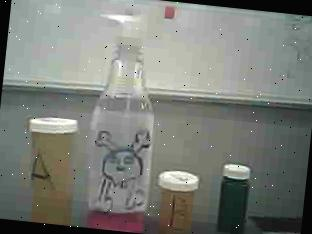Bottle A: (10, 105, 86, 226)
Bottle B: (146, 157, 209, 234)
Bottle C: (210, 156, 260, 234)
hazard: (66, 0, 178, 234)
